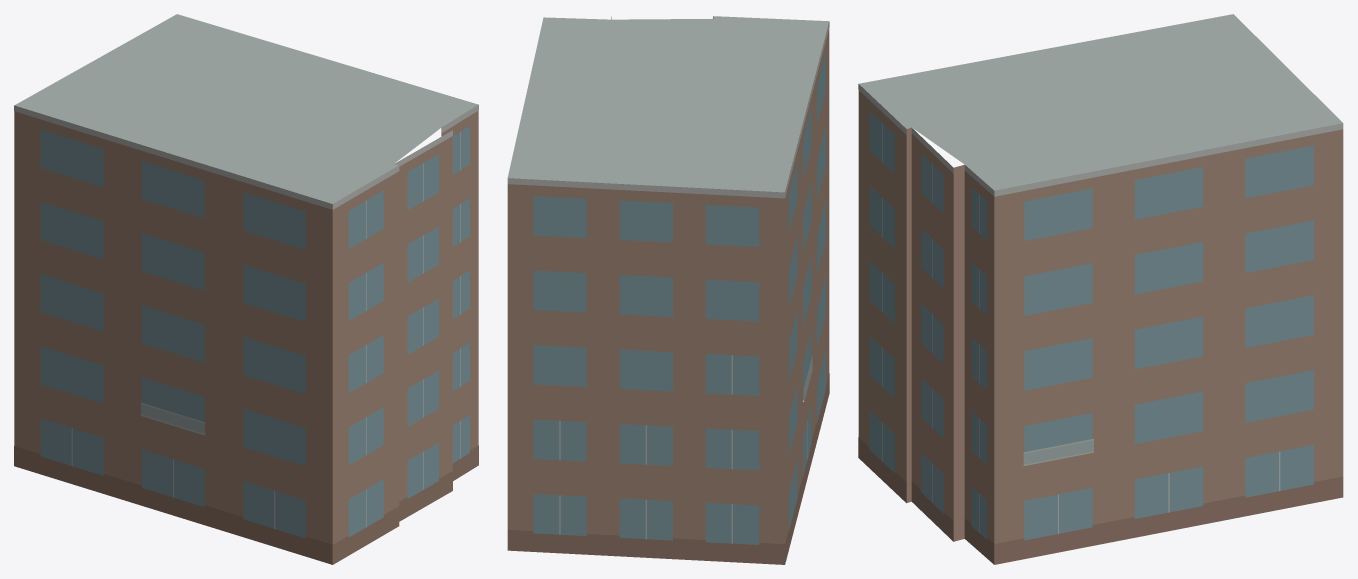
The model's file is survey-upis-32989518.glb.
3 renders of one model, left to right at view 1: azimuth 30°, elevation 25°; view 2: azimuth 150°, elevation 25°; view 3: azimuth 270°, elevation 25°, orthographic. The views are drawn at different scales.
Parts seen in each view (by area): view 1: survey-upis-32989518.tmp; view 2: survey-upis-32989518.tmp; view 3: survey-upis-32989518.tmp.
Part boxes in pixels (box(x1,y1,x2,y2)): survey-upis-32989518.tmp: box(14, 14, 478, 564); survey-upis-32989518.tmp: box(507, 16, 829, 564); survey-upis-32989518.tmp: box(858, 14, 1343, 564).
Size of the model in its own units: 15.46 by 15.25 by 17.92.
